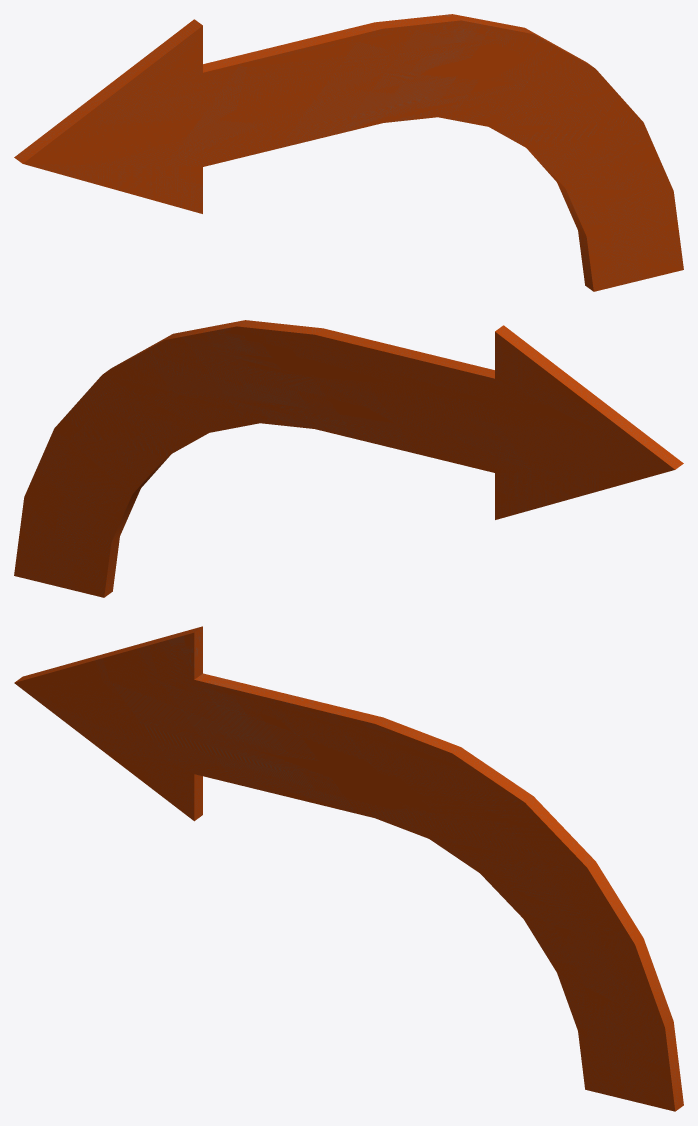
Rendered from arrow_left_3.fbx.
3 views of the same model, one above another, from view 1: azimuth 30°, elevation 25°; view 2: azimuth 150°, elevation 25°; view 3: azimuth 330°, elevation 25° (orthographic).
Parts seen in each view (by area): view 1: Group1; view 2: Group1; view 3: Group1.
Boxes of the visible parts, bbox=[...] form: Group1: bbox=[14, 14, 683, 291]; Group1: bbox=[14, 320, 683, 597]; Group1: bbox=[14, 626, 683, 1111].
Size of the model in its own units: 1.1 by 0.575 by 0.025.
